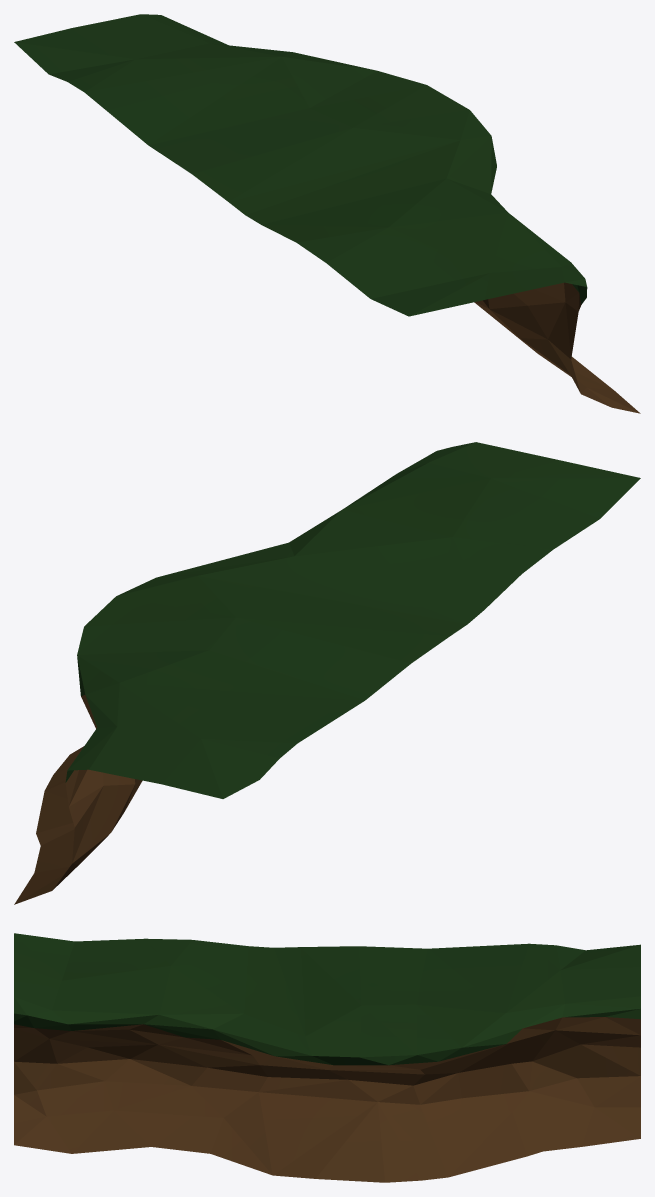
File: dirt_cliff_001.fbx
The picture shows the model from 3 angles, top to bottom: view 1: azimuth 30°, elevation 25°; view 2: azimuth 150°, elevation 25°; view 3: azimuth 270°, elevation 25°; orthographic projection. The views are drawn at different scales.
Parts seen in each view (by area): view 1: DirtCliff; view 2: DirtCliff; view 3: DirtCliff.
Part boxes in pixels (bbox=[...]): DirtCliff: bbox=[14, 14, 640, 413]; DirtCliff: bbox=[14, 442, 640, 904]; DirtCliff: bbox=[14, 933, 640, 1182].
Size of the model in its own units: 438 by 228 by 978.
